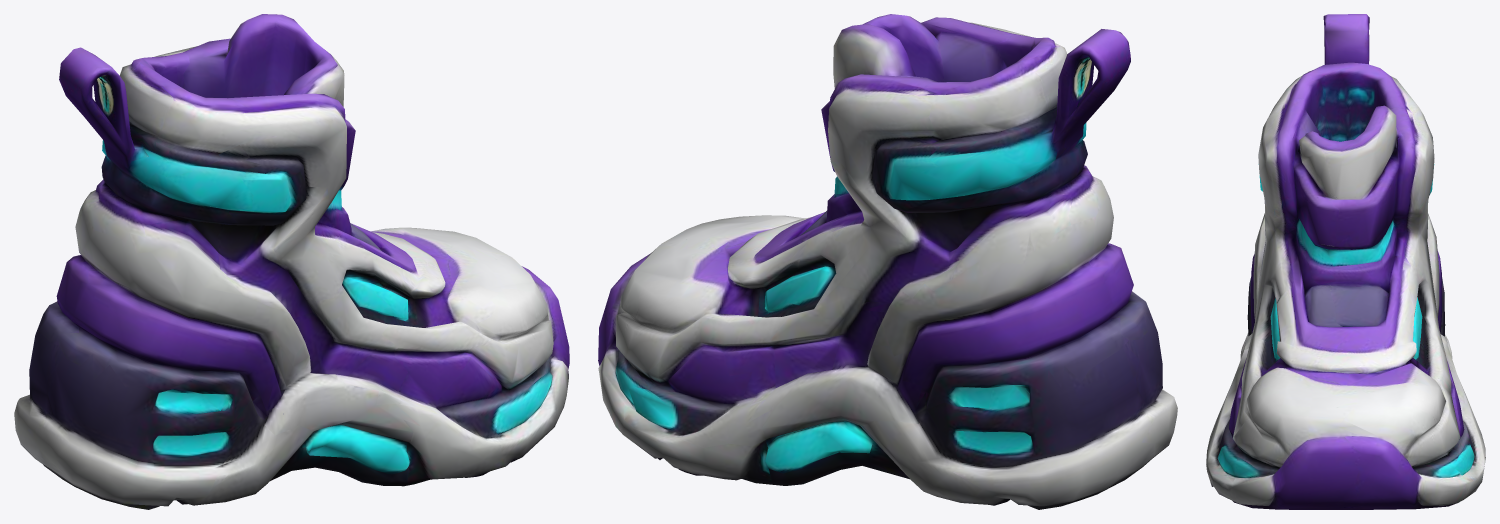
Rendered from GE17_ghost_boots.glb.
3 renders of one model, left to right at view 1: azimuth 30°, elevation 25°; view 2: azimuth 150°, elevation 25°; view 3: azimuth 270°, elevation 25°, orthographic. The views are drawn at different scales.
Visible parts, largest first — view 1: tripo_node_6468999a-4543-4073-8659-83eb8a979500; view 2: tripo_node_6468999a-4543-4073-8659-83eb8a979500; view 3: tripo_node_6468999a-4543-4073-8659-83eb8a979500.
Boxes of the visible parts, left/top/right/bottom form: tripo_node_6468999a-4543-4073-8659-83eb8a979500: left=14, top=14, right=569, bottom=509; tripo_node_6468999a-4543-4073-8659-83eb8a979500: left=598, top=14, right=1177, bottom=509; tripo_node_6468999a-4543-4073-8659-83eb8a979500: left=1206, top=14, right=1485, bottom=509.
Size of the model in its own units: 1 by 0.8365 by 0.6055.
Materials: 1 (1 with a texture image).
